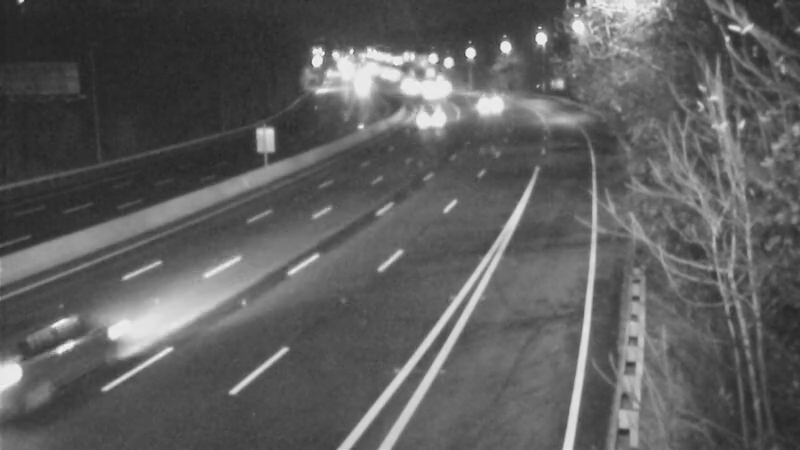vehicle: (1, 310, 110, 420), (409, 69, 459, 119), (454, 75, 504, 125), (403, 91, 453, 141)
